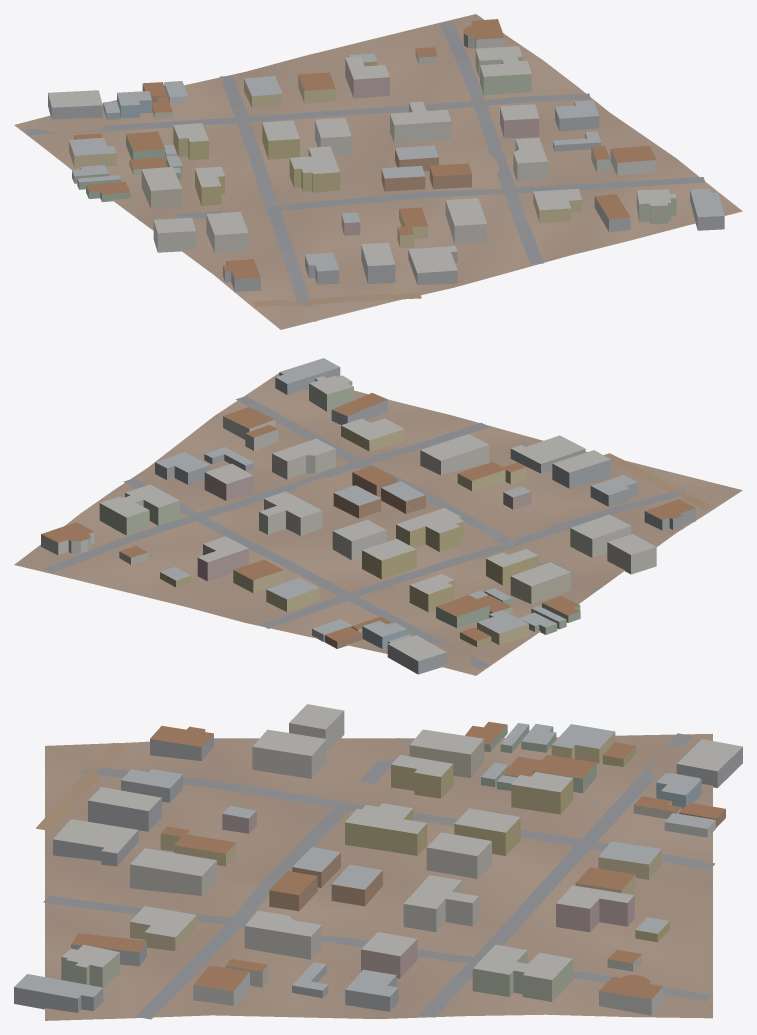
The picture shows the model from 3 angles, top to bottom: view 1: azimuth 30°, elevation 25°; view 2: azimuth 150°, elevation 25°; view 3: azimuth 270°, elevation 25°; orthographic projection. The views are drawn at different scales.
Visible parts, largest first — view 1: Lo; view 2: Lo; view 3: Lo.
Boxes of the visible parts, bbox=[...] form: Lo: bbox=[14, 14, 742, 329]; Lo: bbox=[14, 358, 742, 675]; Lo: bbox=[14, 704, 742, 1020].
Bounding box in the file's own units: 268 × 14.89 × 279.
